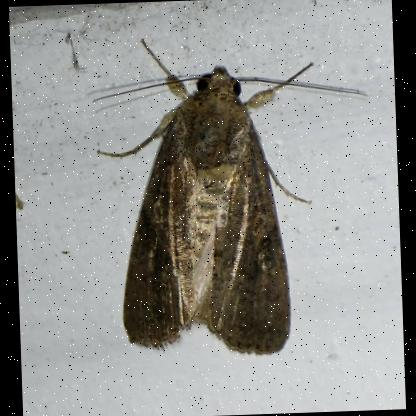Fall Armyworm Moth: (87, 27, 382, 364)
